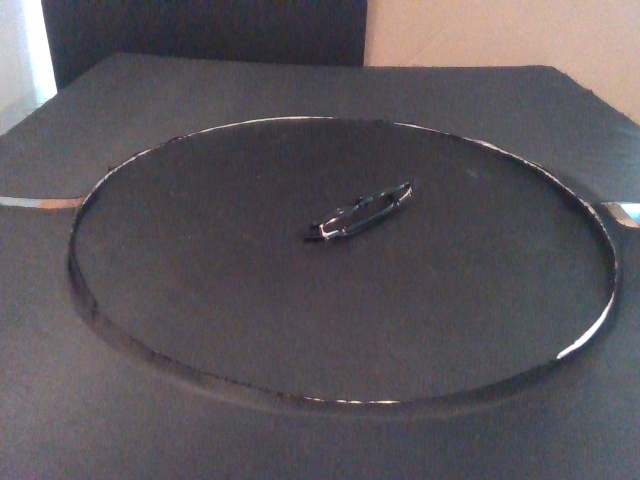glasses: (304, 180, 414, 245)
